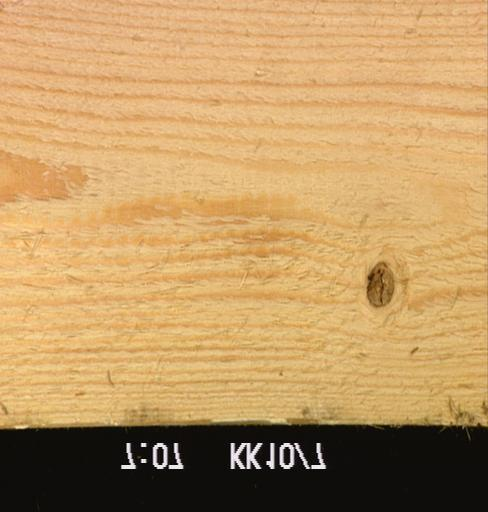wave: (187, 413, 377, 426)
